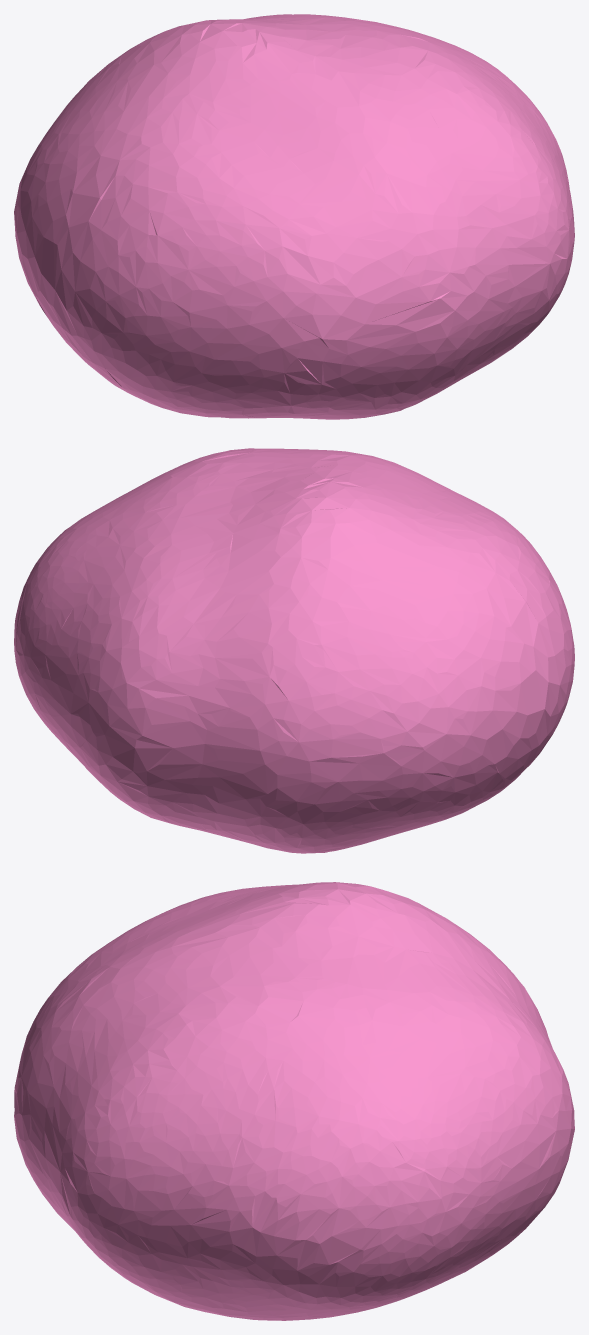
Rendered from beanbag-pink.glb.
The picture shows the model from 3 angles, top to bottom: view 1: azimuth 30°, elevation 25°; view 2: azimuth 150°, elevation 25°; view 3: azimuth 270°, elevation 25°; orthographic projection. The views are drawn at different scales.
Visible parts, largest first — view 1: fabric-pink; view 2: fabric-pink; view 3: fabric-pink.
Part boxes in pixels (x1,y1,x2,y2): fabric-pink: [14, 14, 574, 419]; fabric-pink: [14, 448, 574, 853]; fabric-pink: [14, 882, 574, 1320].
Size of the model in its own units: 1.25 by 0.842 by 1.17.
